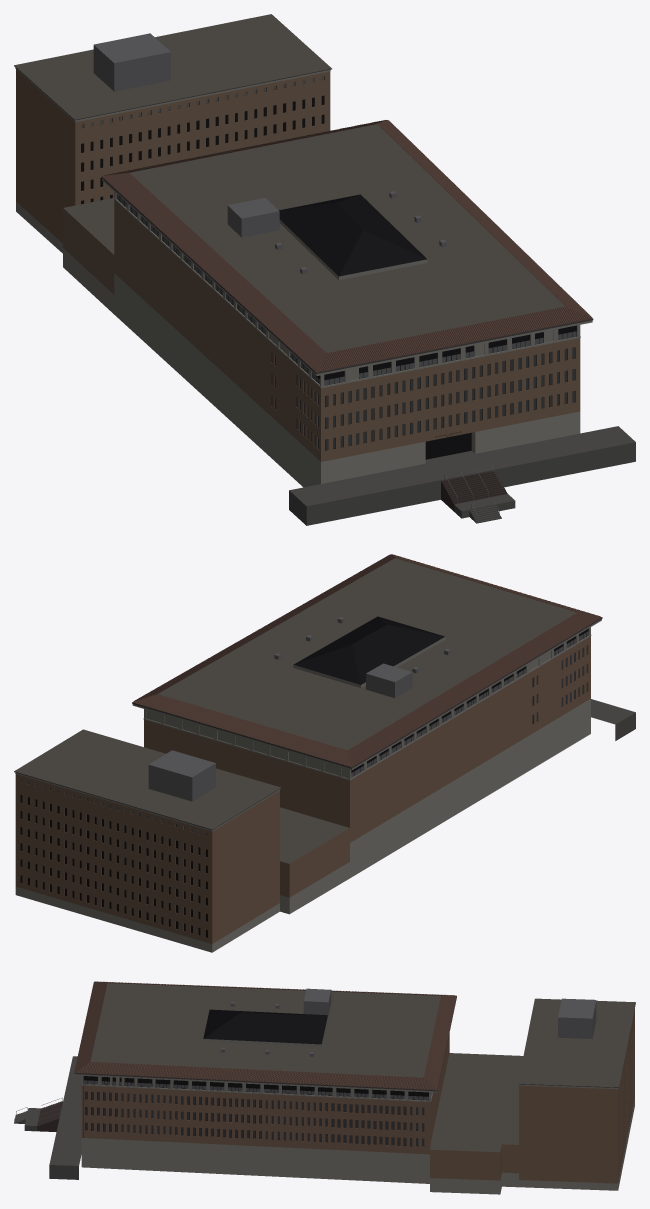
The model's file is mccombs-school-of-business-look.glb.
The picture shows the model from 3 angles, top to bottom: view 1: azimuth 30°, elevation 25°; view 2: azimuth 150°, elevation 25°; view 3: azimuth 270°, elevation 25°; orthographic projection. The views are drawn at different scales.
Visible parts, largest first — view 1: n_roof_flat, n_wall_brick, n_wall_stone_base, n_roof_tile, n_paving_plaza, n_glass_skylight, n_wall_plaza_retaining, n_roof_penthouse, n_wall_cap_pale, n_blind_grey, n_metal_frame_dark, n_glass_window (+4 smaller); view 2: n_wall_brick, n_roof_flat, n_wall_stone_base, n_roof_tile, n_wall_cap_pale, n_glass_skylight, n_roof_penthouse, n_glass_window, n_roof_tile_edge, n_metal_frame_dark, n_blind_lower_sash, n_paving_plaza; view 3: n_roof_flat, n_wall_brick, n_wall_stone_base, n_roof_tile, n_blind_grey, n_glass_skylight, n_wall_cap_pale, n_metal_frame_dark, n_paving_plaza, n_roof_penthouse, n_glass_window, n_blind_lower_sash (+3 smaller).
Part boxes in pixels (x1,y1,x2,y2): n_roof_flat: [14, 14, 564, 352]; n_wall_brick: [16, 69, 580, 461]; n_wall_stone_base: [16, 202, 580, 487]; n_roof_tile: [101, 120, 592, 372]; n_paving_plaza: [289, 426, 635, 523]; n_glass_skylight: [279, 194, 426, 276]; n_wall_plaza_retaining: [289, 442, 635, 525]; n_roof_penthouse: [93, 33, 446, 274]; n_wall_cap_pale: [15, 67, 592, 388]; n_blind_grey: [271, 347, 574, 450]; n_metal_frame_dark: [81, 76, 576, 459]; n_glass_window: [81, 95, 576, 379]; n_wall_brick: [15, 636, 590, 943]; n_roof_flat: [14, 558, 577, 863]; n_wall_stone_base: [15, 699, 590, 952]; n_roof_tile: [132, 554, 601, 767]; n_wall_cap_pale: [15, 619, 601, 831]; n_glass_skylight: [293, 616, 444, 684]; n_roof_penthouse: [148, 617, 450, 801]; n_glass_window: [20, 628, 588, 937]; n_roof_tile_edge: [14, 617, 602, 830]; n_metal_frame_dark: [20, 630, 587, 937]; n_blind_lower_sash: [351, 631, 588, 777]; n_paving_plaza: [591, 699, 635, 724]; n_roof_flat: [90, 983, 635, 1152]; n_wall_brick: [81, 1009, 634, 1183]; n_wall_stone_base: [81, 1100, 634, 1194]; n_roof_tile: [74, 981, 456, 1090]; n_blind_grey: [85, 1091, 424, 1146]; n_glass_skylight: [203, 1009, 327, 1044]; n_wall_cap_pale: [74, 1016, 618, 1101]; n_metal_frame_dark: [84, 1076, 428, 1146]; n_paving_plaza: [14, 1056, 81, 1165]; n_roof_penthouse: [221, 988, 596, 1056]; n_glass_window: [84, 1076, 428, 1096]; n_blind_lower_sash: [84, 1080, 428, 1100].
Bounding box in the file's own units: 59.3 × 27.57 × 125.
